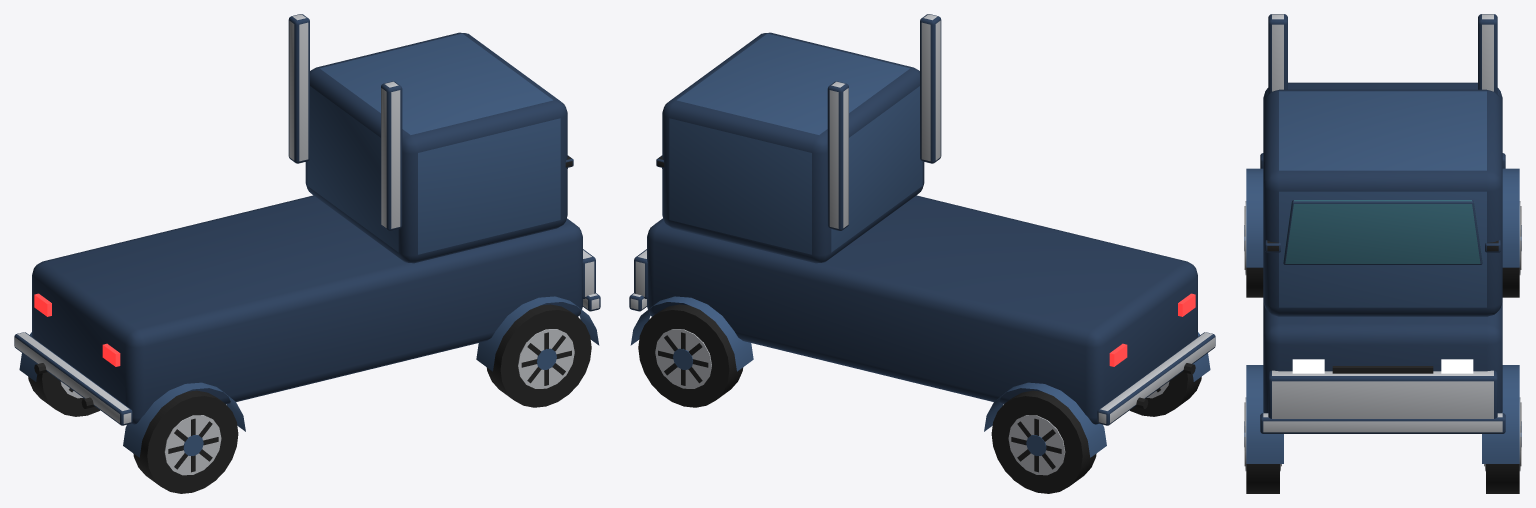
Rendered from big-iron.glb.
The picture shows the model from 3 angles, left to right: view 1: azimuth 30°, elevation 25°; view 2: azimuth 150°, elevation 25°; view 3: azimuth 270°, elevation 25°; orthographic projection. The views are drawn at different scales.
Parts seen in each view (by area): view 1: body, wheel_RR, wheel_FR, wheel_RL; view 2: body, wheel_RL, wheel_FL, wheel_RR; view 3: body, wheel_FL, wheel_FR, wheel_RL, wheel_RR.
Boxes of the visible parts, x1,y1,x2,y2 form: body: [14, 14, 600, 457]; wheel_RR: [133, 390, 238, 493]; wheel_FR: [486, 304, 591, 407]; wheel_RL: [28, 372, 100, 416]; body: [629, 14, 1215, 457]; wheel_RL: [991, 390, 1096, 493]; wheel_FL: [638, 304, 743, 407]; wheel_RR: [1129, 372, 1201, 416]; body: [1246, 14, 1519, 463]; wheel_FL: [1484, 397, 1521, 493]; wheel_FR: [1244, 397, 1281, 493]; wheel_RL: [1502, 201, 1521, 297]; wheel_RR: [1244, 201, 1263, 297].
Size of the model in its own units: 6.41 by 4.35 by 2.78.
